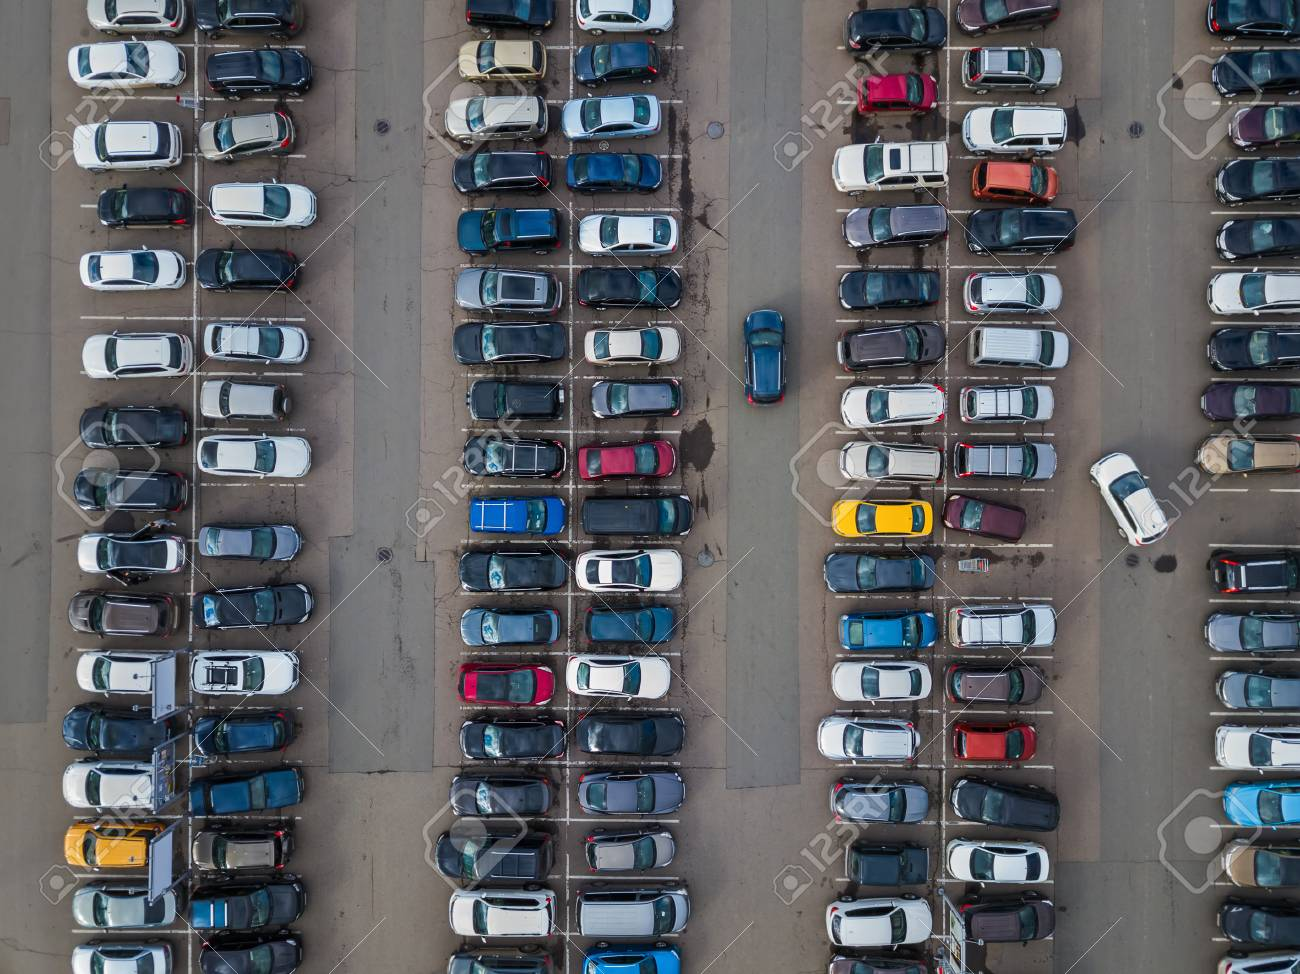Car: (1089, 450, 1171, 550), (69, 39, 188, 93), (832, 142, 946, 196), (198, 433, 315, 482), (450, 266, 567, 315), (958, 267, 1068, 318), (838, 382, 947, 433), (945, 602, 1059, 651), (823, 893, 930, 945), (73, 119, 182, 169), (450, 887, 557, 936), (574, 889, 693, 933), (963, 107, 1068, 157), (567, 652, 673, 700), (189, 650, 303, 695), (70, 883, 180, 929), (82, 331, 190, 378), (68, 592, 175, 638), (943, 835, 1050, 881), (839, 437, 945, 483), (566, 92, 665, 141), (443, 95, 546, 142), (968, 327, 1078, 371), (828, 659, 934, 705), (958, 46, 1064, 92), (201, 322, 311, 366), (207, 182, 315, 226), (197, 518, 301, 564), (574, 549, 684, 592), (815, 718, 924, 761), (1204, 269, 1300, 317), (959, 381, 1055, 429), (201, 112, 296, 160), (951, 438, 1059, 480), (79, 248, 185, 290), (576, 213, 682, 255), (60, 761, 152, 809), (830, 783, 935, 824), (584, 323, 684, 365), (457, 38, 550, 83), (197, 379, 294, 422), (73, 538, 187, 573), (82, 1, 179, 37), (77, 648, 152, 693), (574, 2, 681, 34), (71, 942, 165, 974)
